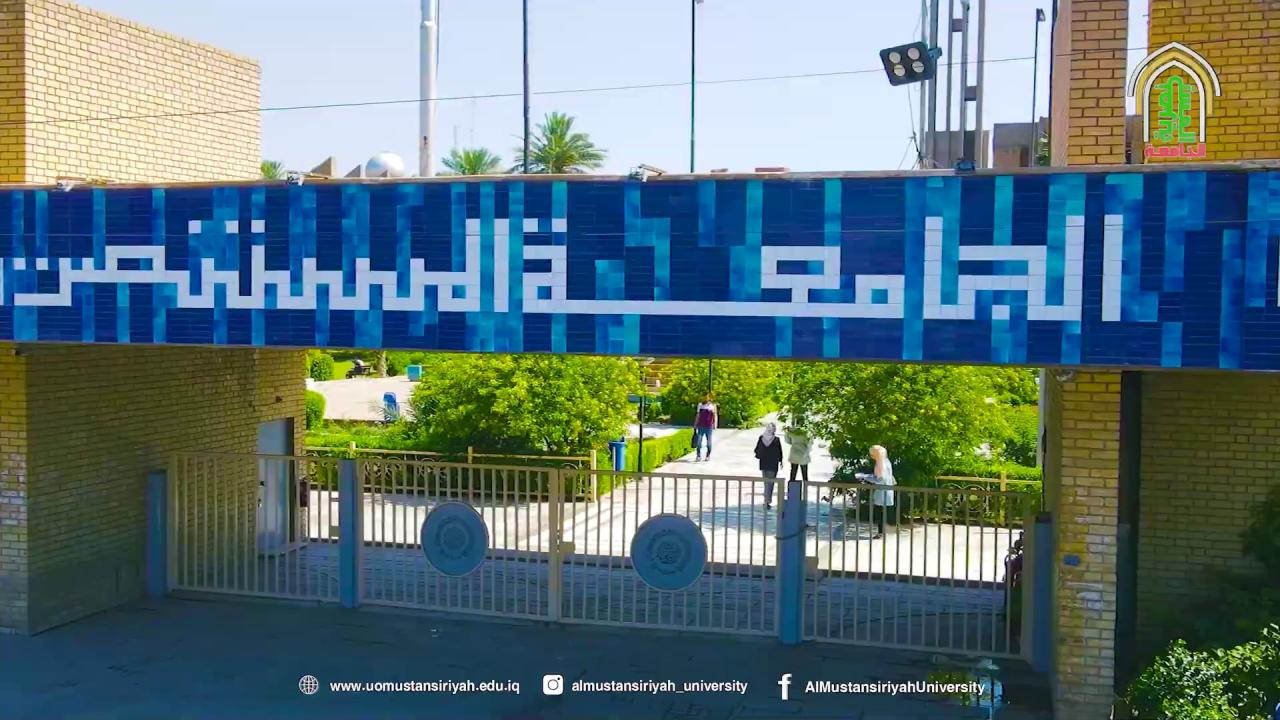person: (855, 443, 897, 539), (753, 423, 783, 510), (692, 394, 717, 461), (784, 421, 811, 482)
tree: (768, 361, 1039, 520), (402, 351, 648, 500), (1111, 621, 1279, 719), (658, 356, 776, 428), (507, 109, 607, 174), (657, 357, 713, 426), (439, 146, 501, 176), (305, 348, 334, 380), (305, 389, 325, 431), (259, 159, 286, 180)
